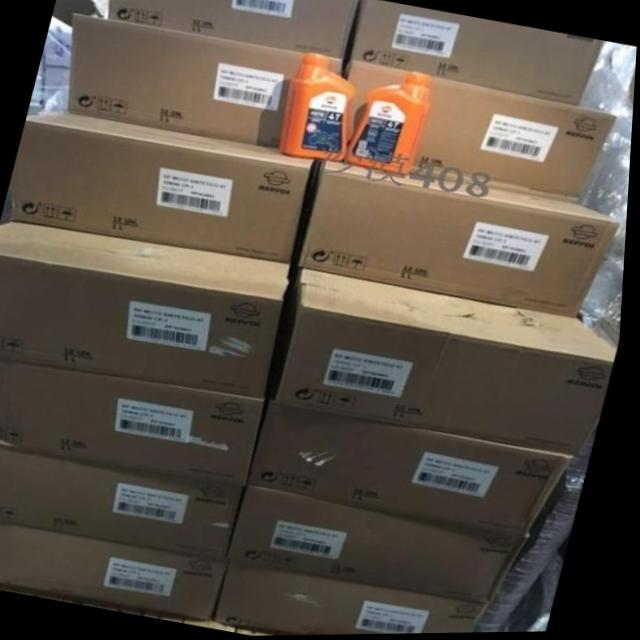box: (275, 264, 622, 458), (0, 219, 293, 401), (299, 160, 621, 319), (12, 111, 322, 264), (252, 403, 584, 537), (232, 487, 533, 609), (0, 360, 275, 487), (68, 13, 305, 150), (0, 442, 252, 562), (349, 0, 605, 109), (415, 78, 617, 206), (0, 523, 234, 619), (221, 562, 500, 636), (107, 0, 359, 59)
